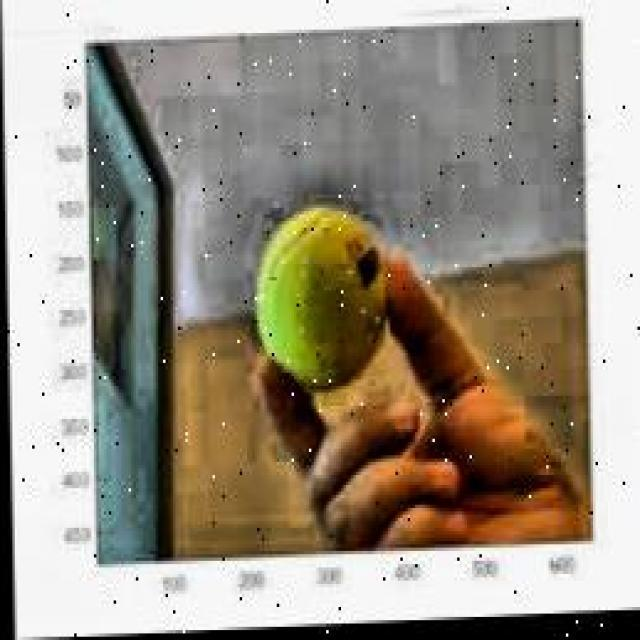tennis-ball: (252, 205, 390, 416)
